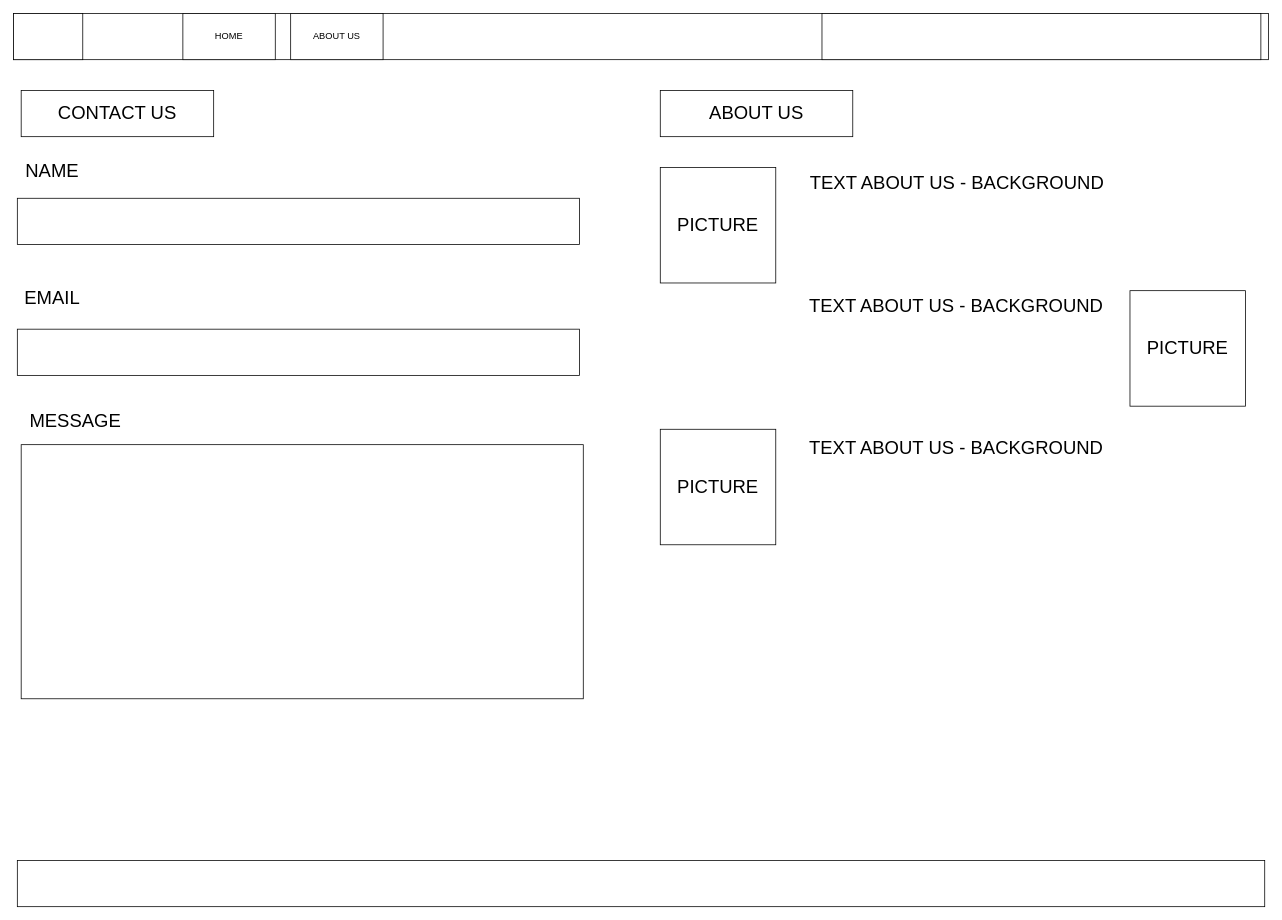
Some shapes in this 1282 by 920 pixel diagram are drawn without their labels. Here are the shapes that lost their labels. From the top down, the centre of each, then its label:
At point (48, 36): "LOGO".
At point (1041, 36): "SEARCH".
At point (641, 883): "FOOTER".
